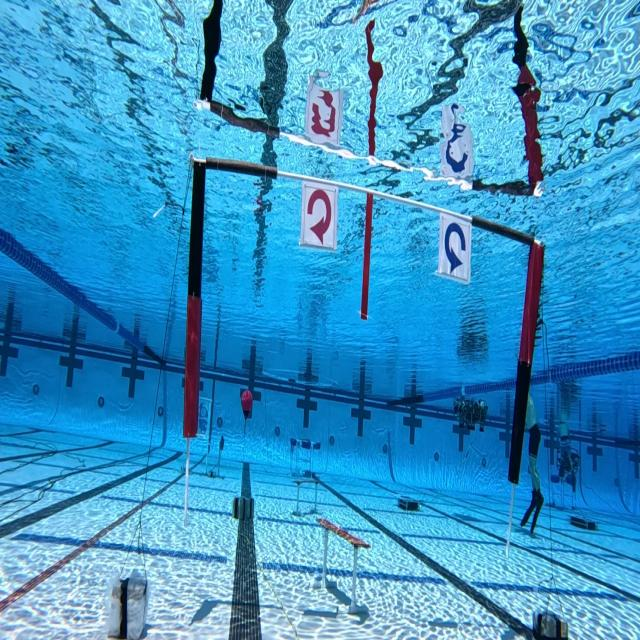blue_side: (437, 204, 478, 290)
red_side: (298, 174, 340, 255)
